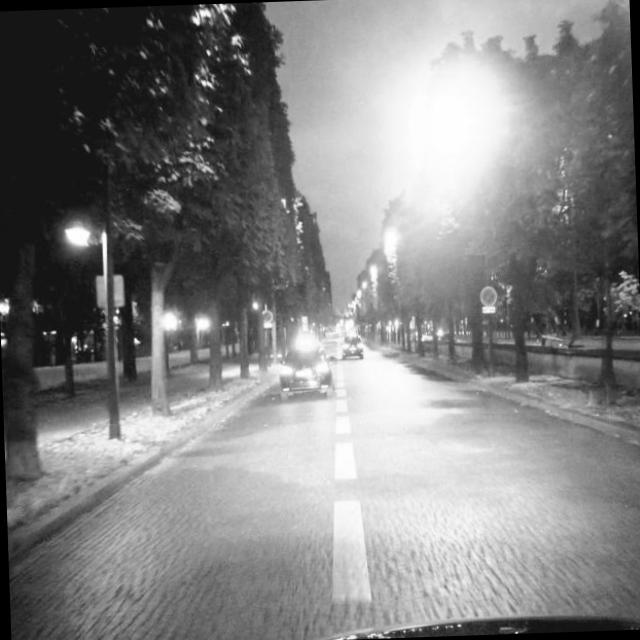Sign: (95, 274, 124, 308)
Tree: (125, 5, 198, 420), (0, 9, 61, 482)
